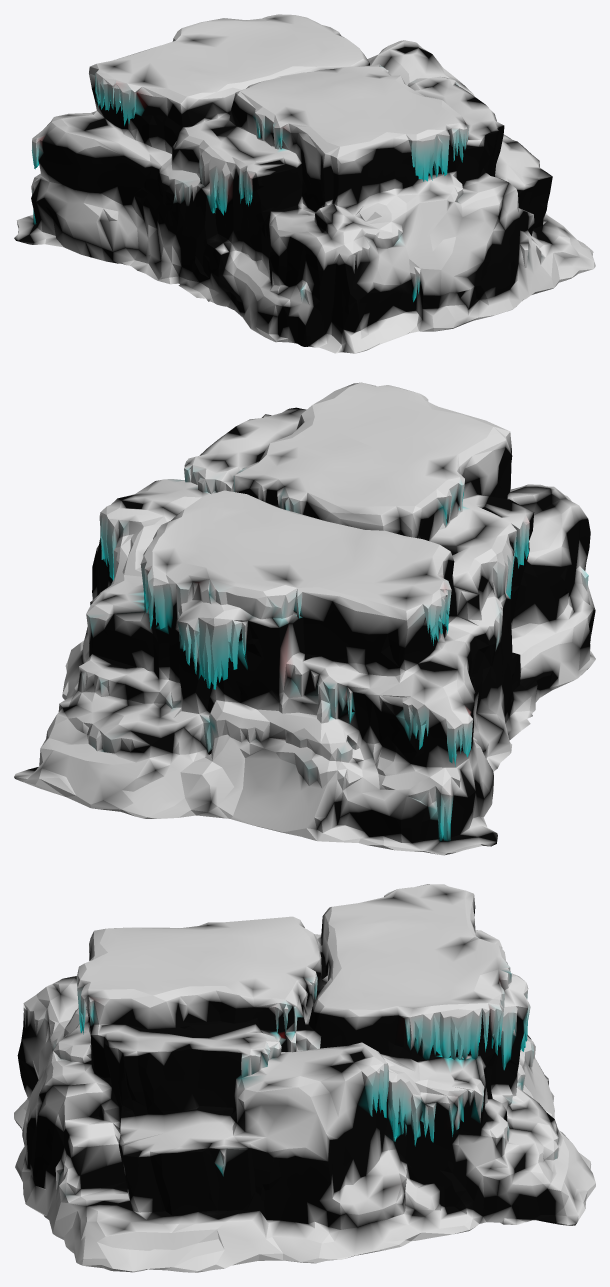
File: CliffIce2_3.fbx
3 views of the same model, one above another, from view 1: azimuth 30°, elevation 25°; view 2: azimuth 150°, elevation 25°; view 3: azimuth 270°, elevation 25° (orthographic). The views are drawn at different scales.
Visible parts, largest first — view 1: CliffIce2_3_LOD0; view 2: CliffIce2_3_LOD0; view 3: CliffIce2_3_LOD0.
Boxes of the visible parts, left/top/right/bottom form: CliffIce2_3_LOD0: left=14, top=14, right=595, bottom=353; CliffIce2_3_LOD0: left=14, top=382, right=595, bottom=855; CliffIce2_3_LOD0: left=14, top=884, right=595, bottom=1272.
Size of what is drawn, in the model's own units: 1424 by 566 by 1472.
